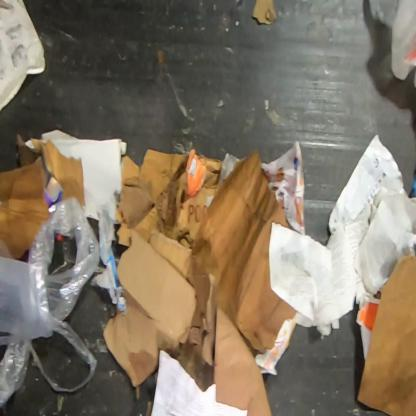cardboard: (102, 230, 196, 390), (114, 147, 223, 280), (0, 132, 86, 260), (165, 228, 217, 393), (0, 0, 48, 113)
soft_plastic: (0, 197, 102, 415), (30, 321, 98, 393), (365, 0, 415, 90)
